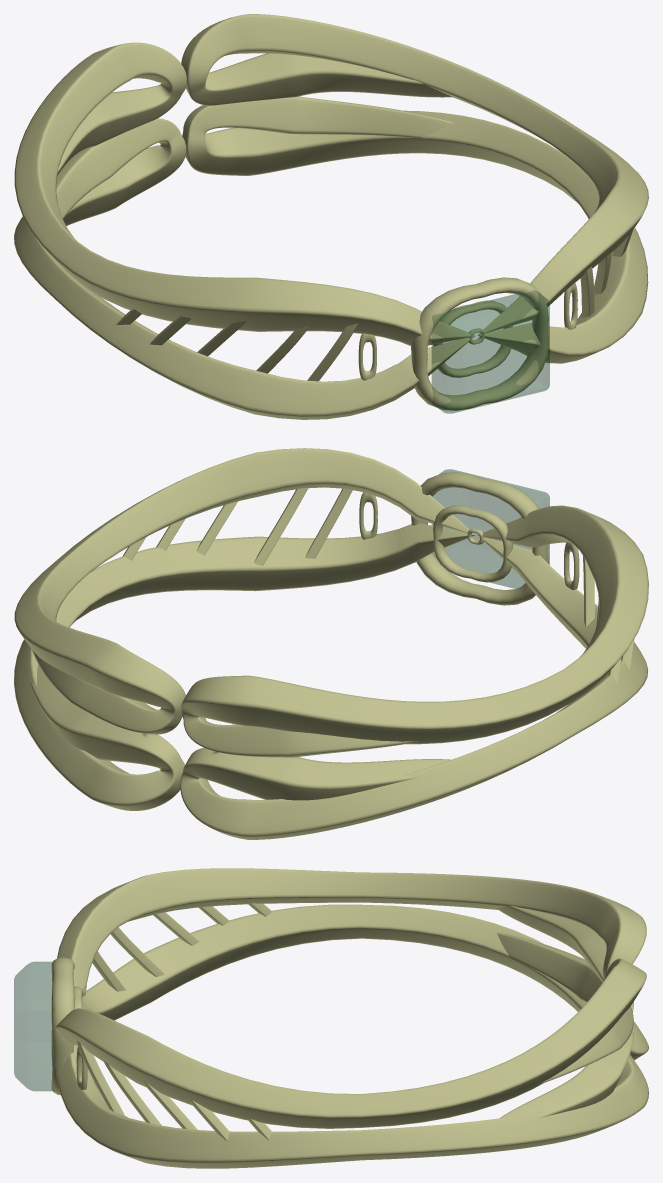
The model's file is ring_02.glb.
The picture shows the model from 3 angles, top to bottom: view 1: azimuth 30°, elevation 25°; view 2: azimuth 150°, elevation 25°; view 3: azimuth 270°, elevation 25°; orthographic projection. The views are drawn at different scales.
Parts seen in each view (by area): view 1: Fantasy Ring; view 2: Fantasy Ring; view 3: Fantasy Ring.
Part boxes in pixels (left/top/right/bottom): Fantasy Ring: left=14, top=14, right=648, bottom=419; Fantasy Ring: left=14, top=448, right=648, bottom=839; Fantasy Ring: left=14, top=868, right=648, bottom=1168.
Size of the model in its own units: 0.0996 by 0.0293 by 0.1114.
